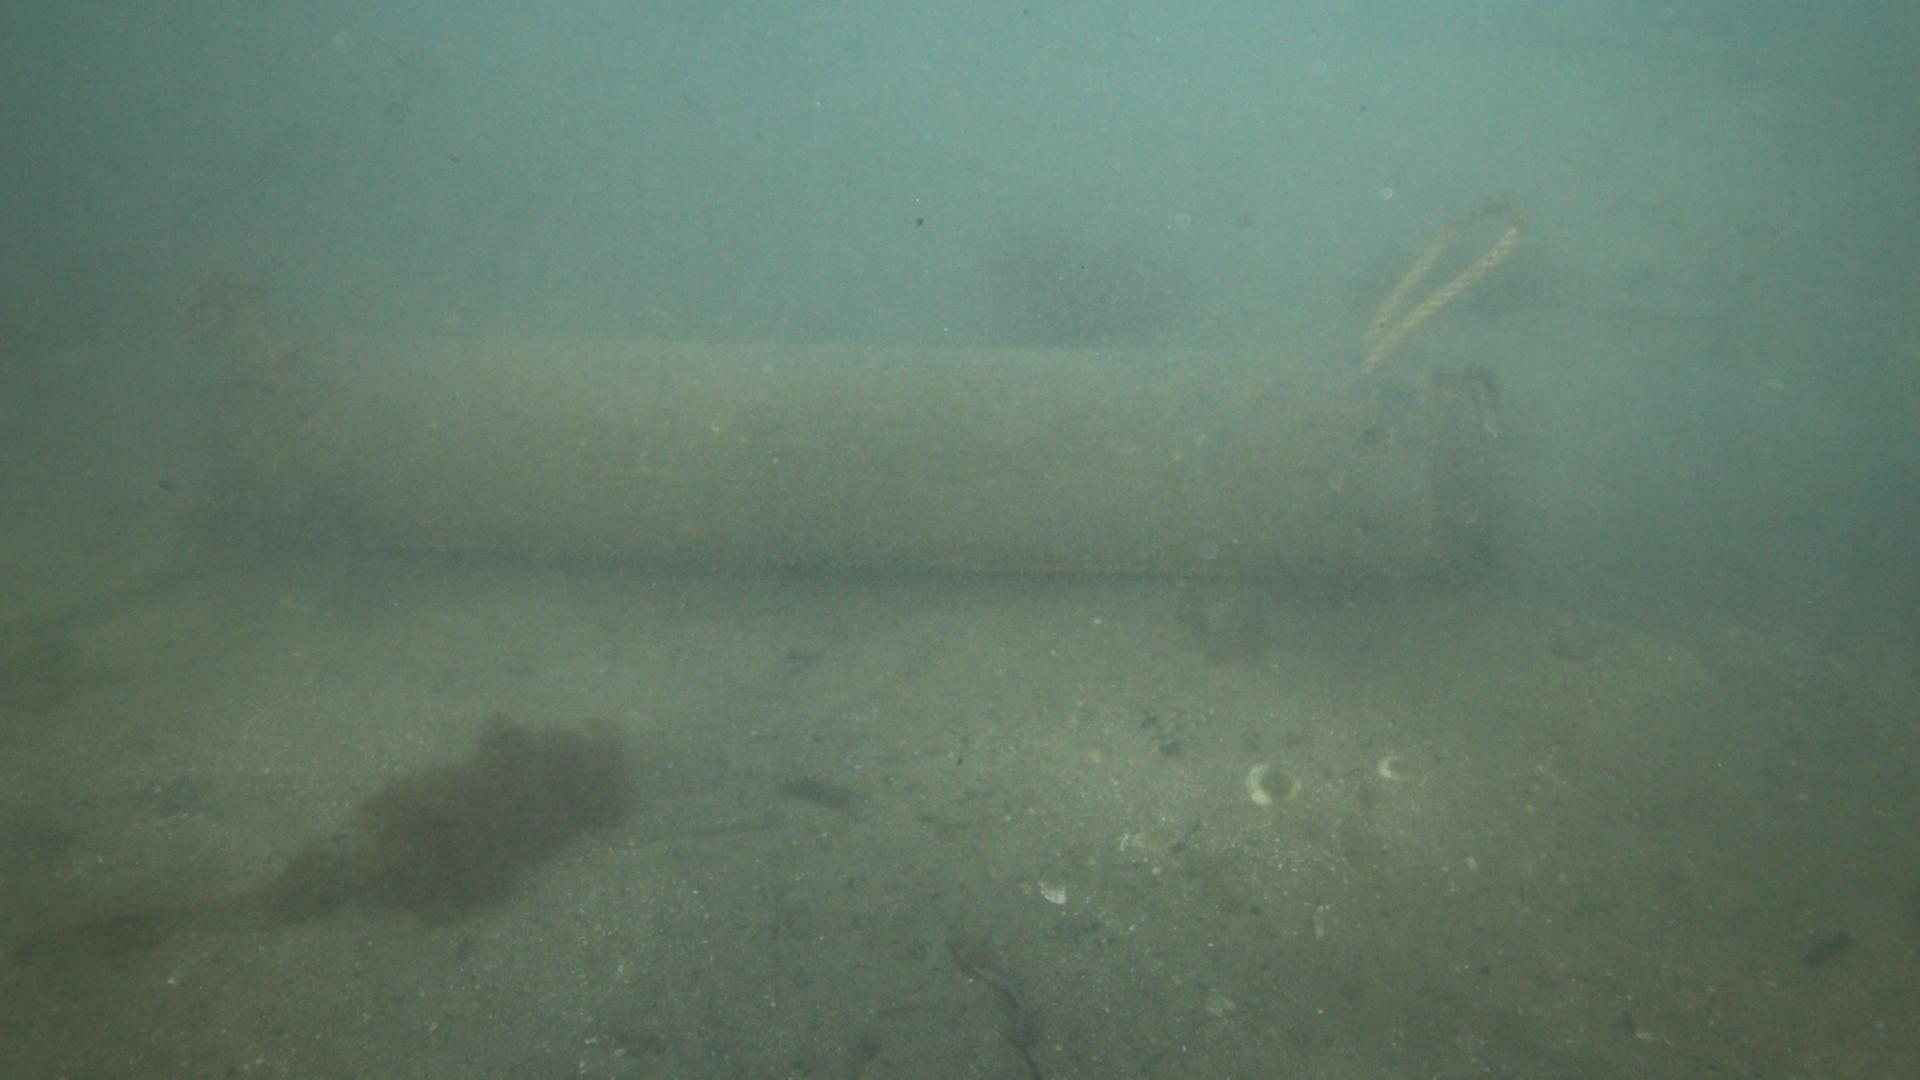eel fish trap: (187, 334, 1506, 582)
rope: (1356, 193, 1524, 367)
